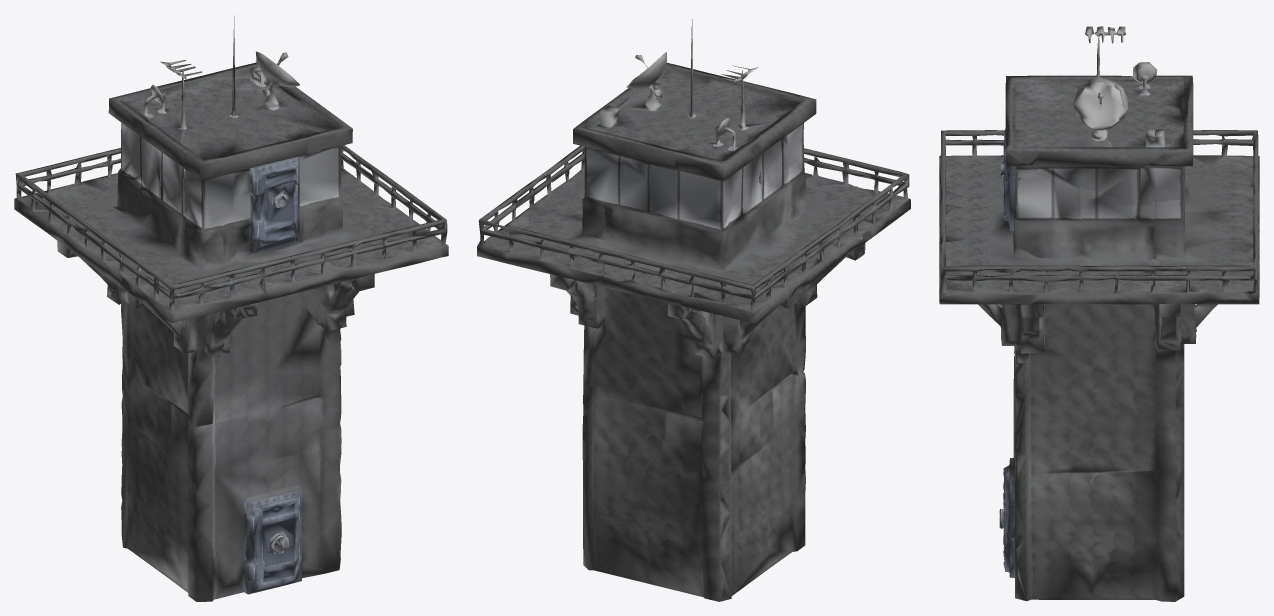
Rendered from gt_concrete.glb.
The picture shows the model from 3 angles, left to right: view 1: azimuth 30°, elevation 25°; view 2: azimuth 150°, elevation 25°; view 3: azimuth 270°, elevation 25°; orthographic projection. The views are drawn at different scales.
Parts seen in each view (by area): view 1: gt_concrete; view 2: gt_concrete; view 3: gt_concrete.
Part boxes in pixels (box(x1,y1,x2,y2)): gt_concrete: box(14, 15, 448, 601); gt_concrete: box(477, 19, 910, 601); gt_concrete: box(939, 26, 1259, 601).
Size of the model in its own units: 1.02 by 1.9 by 0.9997.
Materials: 1 (1 with a texture image).
